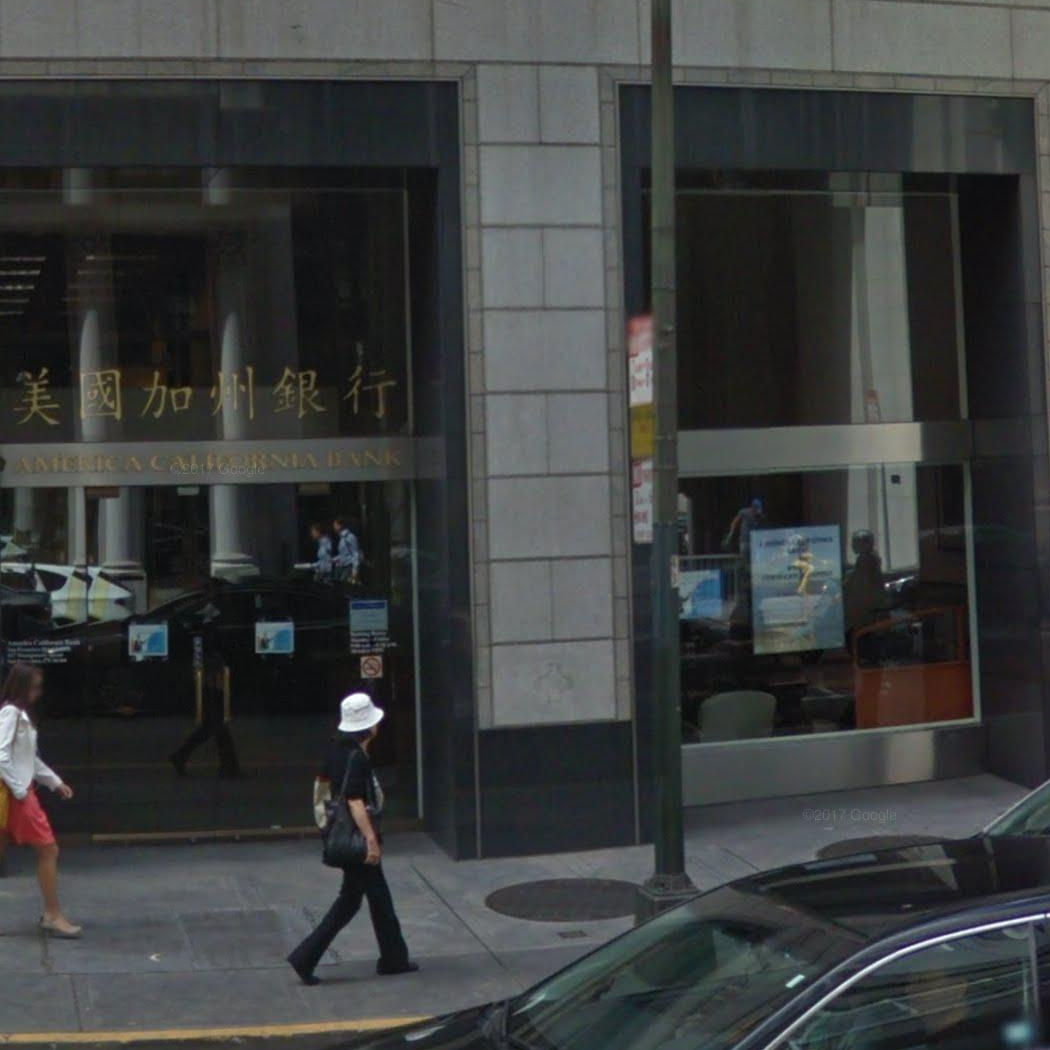No Parking: (627, 315, 653, 406), (630, 459, 655, 546)
